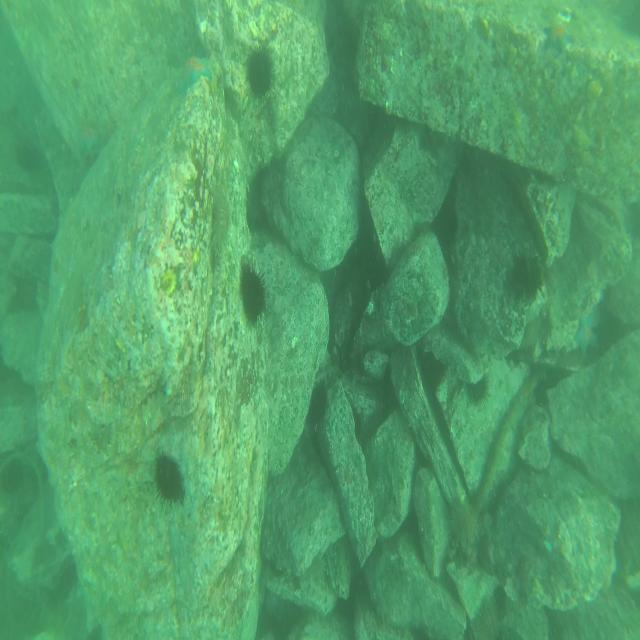echinus: (238, 263, 268, 325), (154, 454, 186, 507), (510, 253, 542, 302), (246, 45, 275, 97), (434, 208, 458, 249), (468, 372, 488, 403)
starfish: (180, 52, 210, 92), (575, 308, 599, 351)
